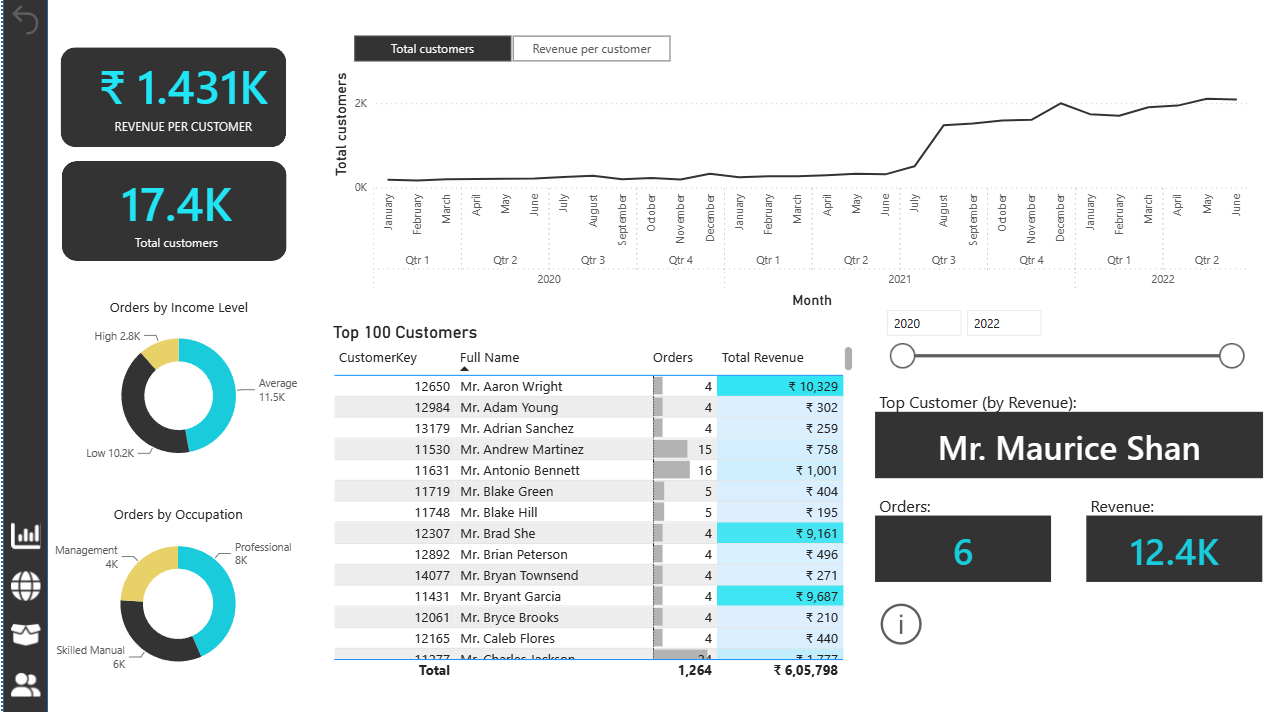

The dashboard page shown, as its layout file describes it:
{"tool":"powerbi","page":{"name":"Customer Detail","canvas":[1280,720],"ordinal":3},"visuals":[{"type":"group","id":"g1","title":"Group 2","box":[42.8,126,262.9,177.3],"z":0},{"type":"actionButton","box":[0,521.2,45,37.5],"z":0,"group":"g3"},{"type":"shape","box":[0,0,45,720],"z":1000},{"type":"shape","box":[57.6,50.6,225.9,100],"z":1000,"group":"g2"},{"type":"shape","box":[58.7,164.8,225,100],"z":1000,"group":"g1"},{"type":"actionButton","box":[0,620.4,45,37.5],"z":1000,"group":"g3"},{"type":"cardVisual","fields":{"Data":["Measure Table.Average Revenue per customer"]},"box":[45.9,7.5,268.2,181.3],"z":1500,"group":"g2"},{"type":"cardVisual","fields":{"Data":["Measure Table.Total customers"]},"box":[42.8,126,262.2,176.7],"z":1500,"group":"g1"},{"type":"group","id":"g2","title":"Group 1","box":[45.9,7.5,268.2,181.3],"z":2000},{"type":"actionButton","box":[0,669.9,45,37.5],"z":2000,"group":"g3"},{"type":"lineChart","fields":{"Category":["Calendar Lookup.Date.Variation.Date Hierarchy.Year","Calendar Lookup.Date.Variation.Date Hierarchy.Quarter","Calendar Lookup.Date.Variation.Date Hierarchy.Month","Calendar Lookup.Date.Variation.Date Hierarchy.Day","Calendar Lookup.Date Hierarchy.Start of Week"],"Y":["Measure Table.Total customers"]},"box":[325,51.2,925,266.2],"z":3000},{"type":"actionButton","box":[0,570.8,45,37.5],"z":3000,"group":"g3"},{"type":"donutChart","title":"Orders by Income Level","fields":{"Category":["Customer Lookup.Income Level"],"Y":["Measure Table.Total Orders"]},"box":[46.5,300.8,259.2,179.8],"z":4000},{"type":"donutChart","title":"Orders by Occupation","fields":{"Category":["Customer Lookup.Occupation"],"Y":["Measure Table.Total Orders"]},"box":[46.5,508.7,258,181],"z":5000},{"type":"tableEx","title":"Top 100 Customers","fields":{"Values":["Customer Lookup.CustomerKey","Customer Lookup.Full Name","Measure Table.Total Orders","Measure Table.Total Revenue"]},"box":[325,326.2,530,362.5],"z":6000},{"type":"cardVisual","fields":{"Data":["Measure Table.Full Name (Customer detail)"]},"box":[871.2,415.3,390,68.8],"z":7000},{"type":"cardVisual","fields":{"Data":["Measure Table.Total Orders (Customer Detail)"]},"box":[871.2,518.5,178.8,68.8],"z":8000},{"type":"cardVisual","fields":{"Data":["Measure Table.Total Revenue (Customer Detail)"]},"box":[1082.5,518.5,178.8,68.8],"z":9000},{"type":"textbox","box":[871.2,390,247.5,33.8],"z":10000},{"type":"textbox","box":[871.2,493.7,92.5,38.8],"z":11000},{"type":"textbox","box":[1082.5,493.7,92.5,38.8],"z":12000},{"type":"slicer","fields":{"Values":["LocalDateTable_f7a1393f-66e7-4448-a4a7-1091e6c96e7f.Year"]},"box":[871.2,303.8,378.8,86.2],"z":13000},{"type":"actionButton","box":[871.2,601.2,390,53.8],"z":14000},{"type":"actionButton","box":[2.5,3.8,42.5,40],"z":15000},{"type":"group","id":"g3","title":"Navigation Buttons","box":[0,521.2,45,186.2],"z":16000},{"type":"slicer","fields":{"Values":["Customer Metric Selection.Customer Metric Selection"]},"box":[325,32.5,366.2,36.2],"z":17501}]}

Visuals, with their boxes on the page's 1280x720 design canvas (x1, y1, x2, y2). These are canvas units, not pixel positions in the 1283x712 screenshot, which may show the page scaled, cropped or inside an application window:
"Group 2" group: (x1=43, y1=126, x2=306, y2=303)
actionButton: (x1=0, y1=521, x2=45, y2=559)
shape: (x1=0, y1=0, x2=45, y2=720)
shape: (x1=58, y1=51, x2=284, y2=151)
shape: (x1=59, y1=165, x2=284, y2=265)
actionButton: (x1=0, y1=620, x2=45, y2=658)
cardVisual - Measure Table.Average Revenue per customer: (x1=46, y1=8, x2=314, y2=189)
cardVisual - Measure Table.Total customers: (x1=43, y1=126, x2=305, y2=303)
"Group 1" group: (x1=46, y1=8, x2=314, y2=189)
actionButton: (x1=0, y1=670, x2=45, y2=707)
lineChart - Calendar Lookup.Date.Variation.Date Hierarchy.Year x Calendar Lookup.Date.Variation.Date Hierarchy.Quarter: (x1=325, y1=51, x2=1250, y2=317)
actionButton: (x1=0, y1=571, x2=45, y2=608)
"Orders by Income Level" donutChart: (x1=46, y1=301, x2=306, y2=481)
"Orders by Occupation" donutChart: (x1=46, y1=509, x2=304, y2=690)
"Top 100 Customers" tableEx: (x1=325, y1=326, x2=855, y2=689)
cardVisual - Measure Table.Full Name (Customer detail): (x1=871, y1=415, x2=1261, y2=484)
cardVisual - Measure Table.Total Orders (Customer Detail): (x1=871, y1=518, x2=1050, y2=587)
cardVisual - Measure Table.Total Revenue (Customer Detail): (x1=1082, y1=518, x2=1261, y2=587)
textbox: (x1=871, y1=390, x2=1119, y2=424)
textbox: (x1=871, y1=494, x2=964, y2=532)
textbox: (x1=1082, y1=494, x2=1175, y2=532)
slicer - LocalDateTable_f7a1393f-66e7-4448-a4a7-1091e6c96e7f.Year: (x1=871, y1=304, x2=1250, y2=390)
actionButton: (x1=871, y1=601, x2=1261, y2=655)
actionButton: (x1=2, y1=4, x2=45, y2=44)
"Navigation Buttons" group: (x1=0, y1=521, x2=45, y2=707)
slicer - Customer Metric Selection.Customer Metric Selection: (x1=325, y1=32, x2=691, y2=69)
